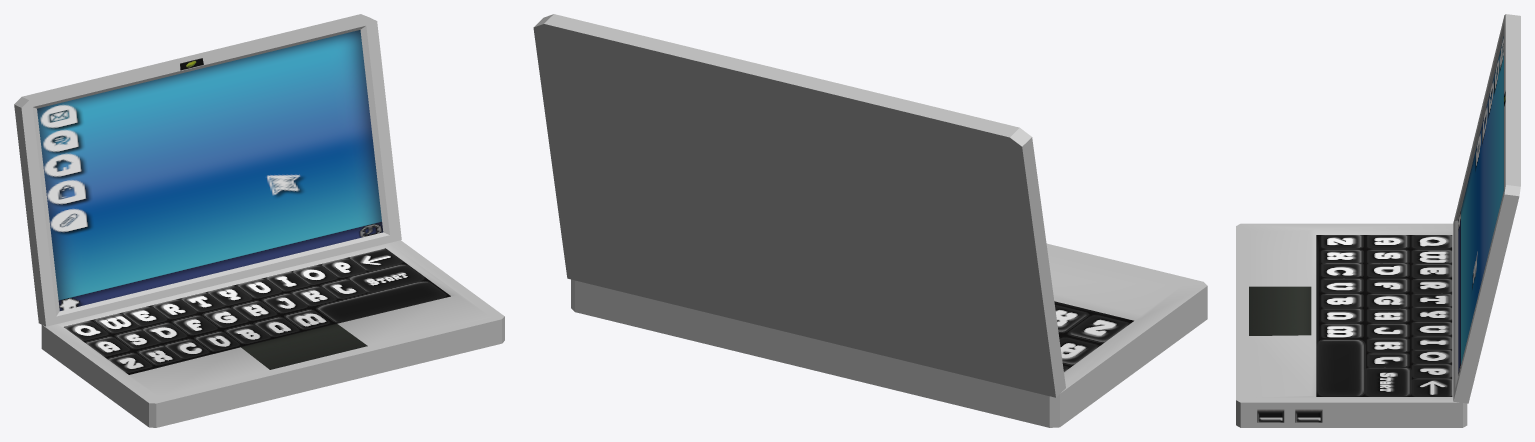
Rendered from Laptop_02.FBX.
3 views of the same model, side by side, from view 1: azimuth 30°, elevation 25°; view 2: azimuth 150°, elevation 25°; view 3: azimuth 270°, elevation 25° (orthographic). The views are drawn at different scales.
Parts seen in each view (by area): view 1: Laptop; view 2: Laptop; view 3: Laptop.
Part boxes in pixels (x1=…): Laptop: x1=14, y1=14, x2=504, y2=427; Laptop: x1=533, y1=14, x2=1207, y2=427; Laptop: x1=1236, y1=14, x2=1520, y2=427.
Bounding box in the file's own units: 61.53 × 37.92 × 40.94.
